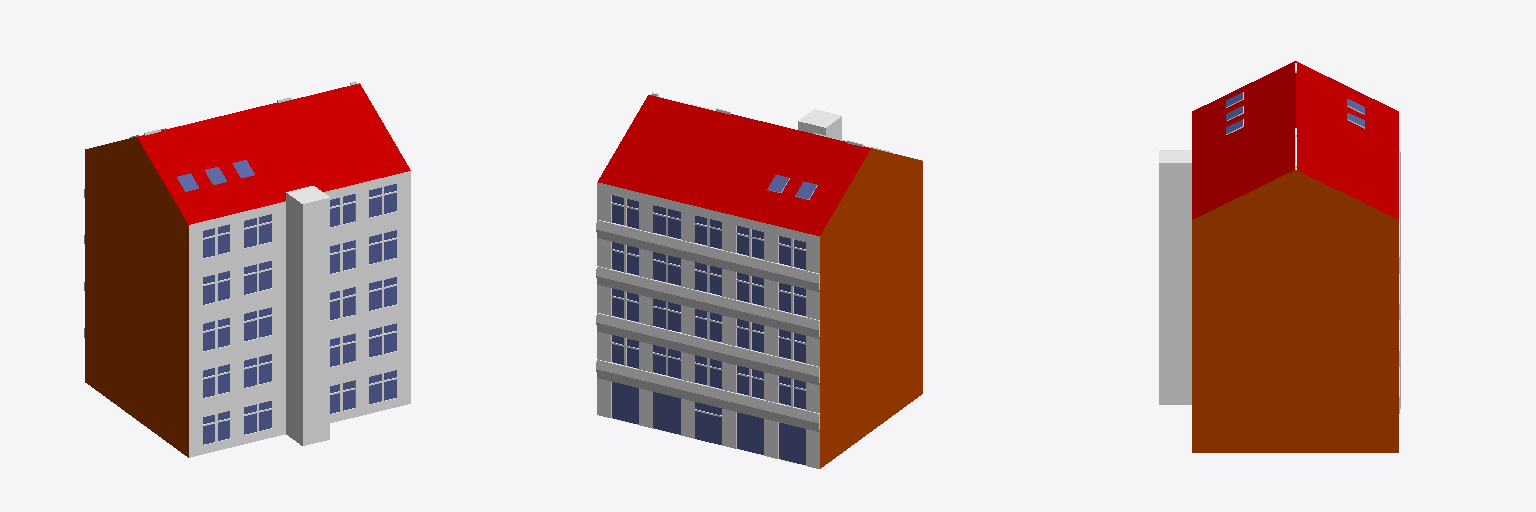
The model's file is BuildingNormal.obj.
3 views of the same model, side by side, from view 1: azimuth 30°, elevation 25°; view 2: azimuth 150°, elevation 25°; view 3: azimuth 270°, elevation 25° (orthographic).
Parts seen in each view (by area): view 1: Cube; view 2: Cube; view 3: Cube.
Part boxes in pixels (x1,y1,x2,y2): Cube: (84, 81, 410, 457); Cube: (596, 92, 922, 468); Cube: (1159, 61, 1400, 452).
Size of the model in its own units: 20 by 24.51 by 18.83.